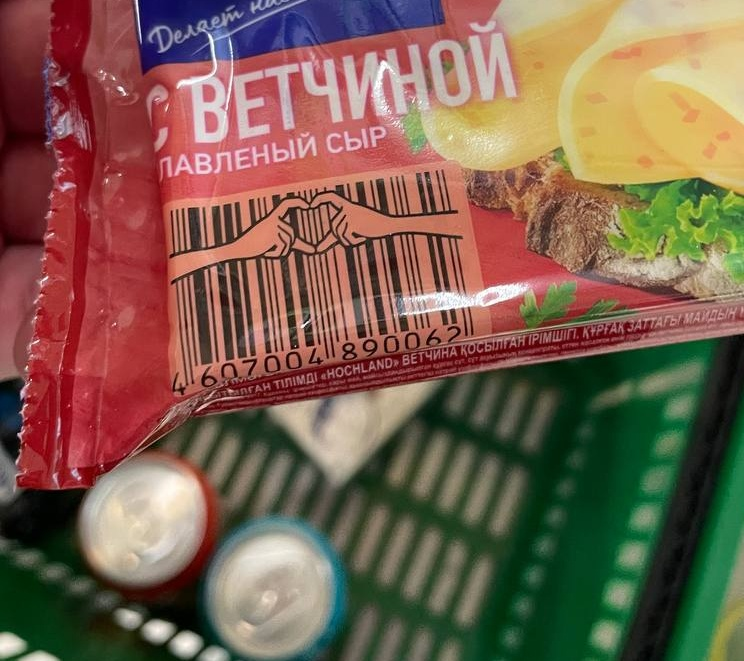1d: (170, 169, 475, 370)
